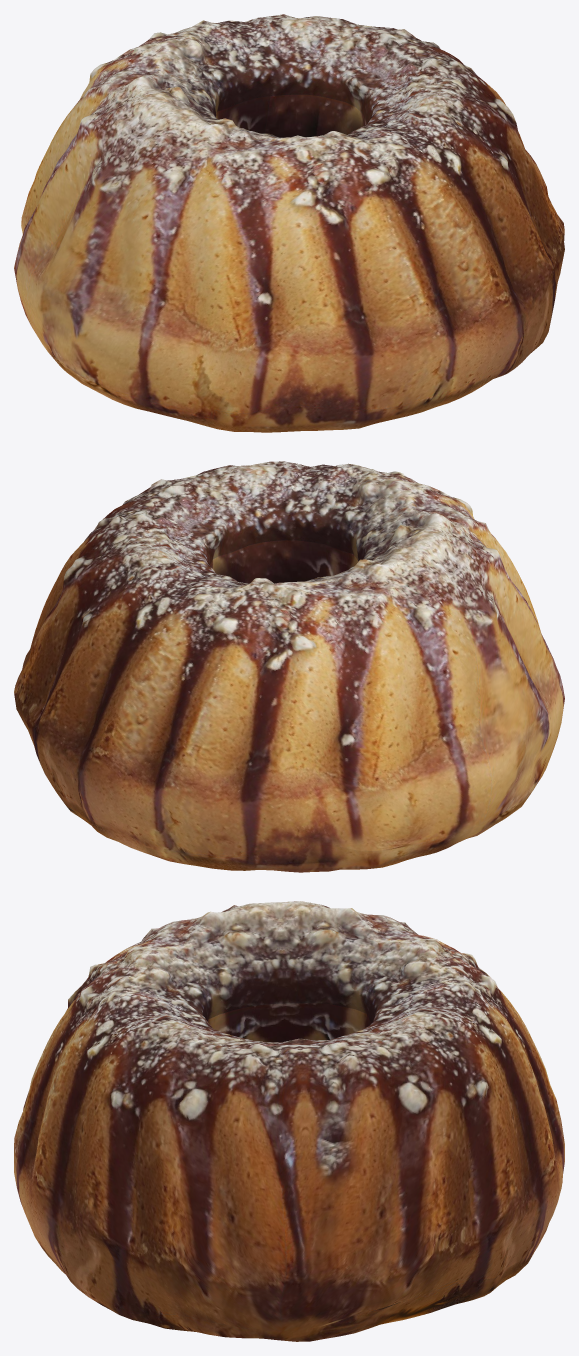
File: brownie.glb
3 views of the same model, one above another, from view 1: azimuth 30°, elevation 25°; view 2: azimuth 150°, elevation 25°; view 3: azimuth 270°, elevation 25° (orthographic). The views are drawn at different scales.
Visible parts, largest first — view 1: Material2; view 2: Material2; view 3: Material2.
Part boxes in pixels (bbox=[...]): Material2: bbox=[14, 14, 564, 432]; Material2: bbox=[14, 461, 564, 872]; Material2: bbox=[14, 901, 564, 1341].
Bounding box in the file's own units: 1184 × 633 × 1136.
Materials: 1 (1 with a texture image).
